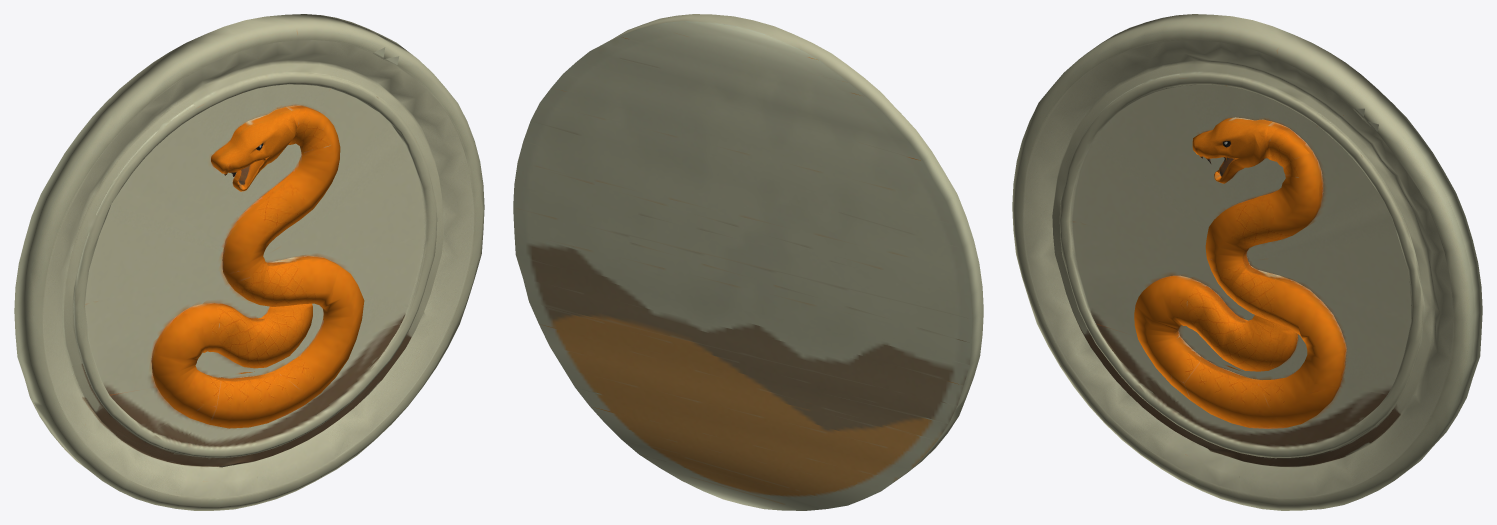
File: sigil-serpent_refine.glb
The picture shows the model from 3 angles, left to right: view 1: azimuth 30°, elevation 25°; view 2: azimuth 150°, elevation 25°; view 3: azimuth 330°, elevation 25°; orthographic projection.
Size of the model in its own units: 0.9575 by 0.9512 by 0.0854.
1 material, 1 textured.
